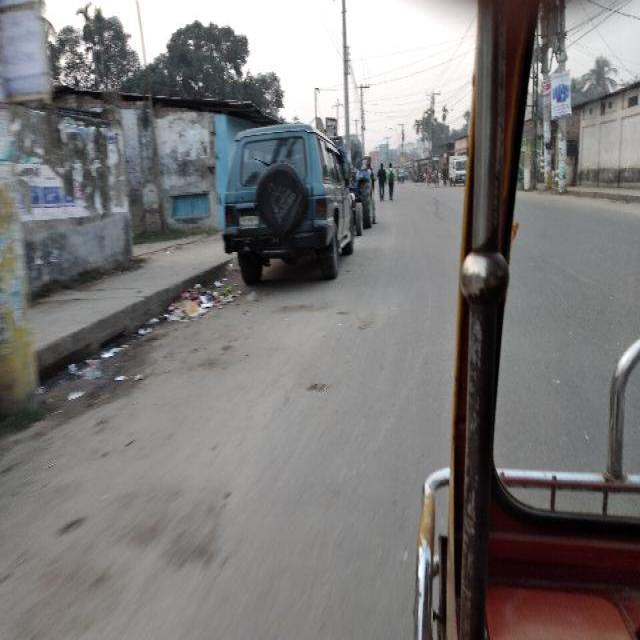auto rickshaw: (396, 166, 406, 183)
pickup: (446, 154, 468, 187)
rickshaw: (426, 162, 440, 186), (414, 164, 424, 184)
suv: (224, 119, 356, 286)
